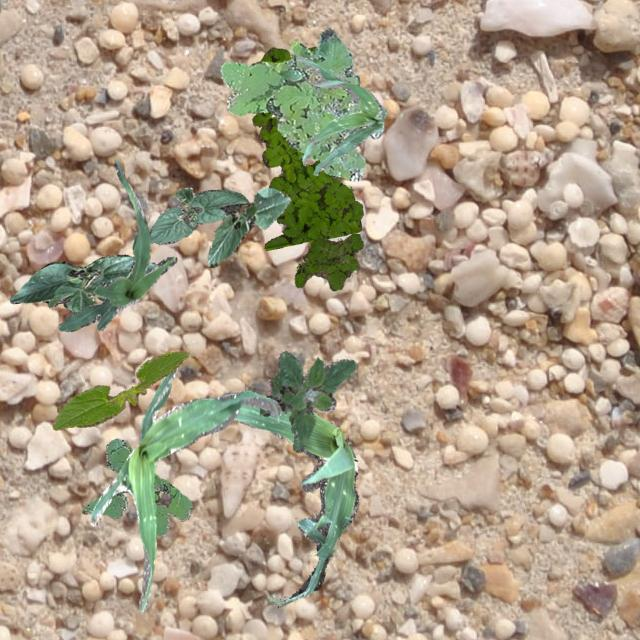crop: (88, 367, 280, 611), (220, 390, 358, 606), (58, 157, 176, 330), (294, 54, 386, 174), (52, 350, 188, 430), (8, 254, 156, 312), (206, 186, 290, 266), (148, 186, 246, 242)
weed: (220, 28, 382, 180), (252, 46, 362, 250), (80, 438, 192, 534), (258, 349, 356, 452), (294, 232, 362, 290)
